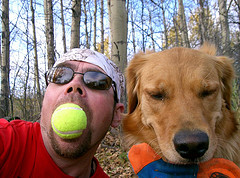tennis ball: (50, 103, 87, 141)
